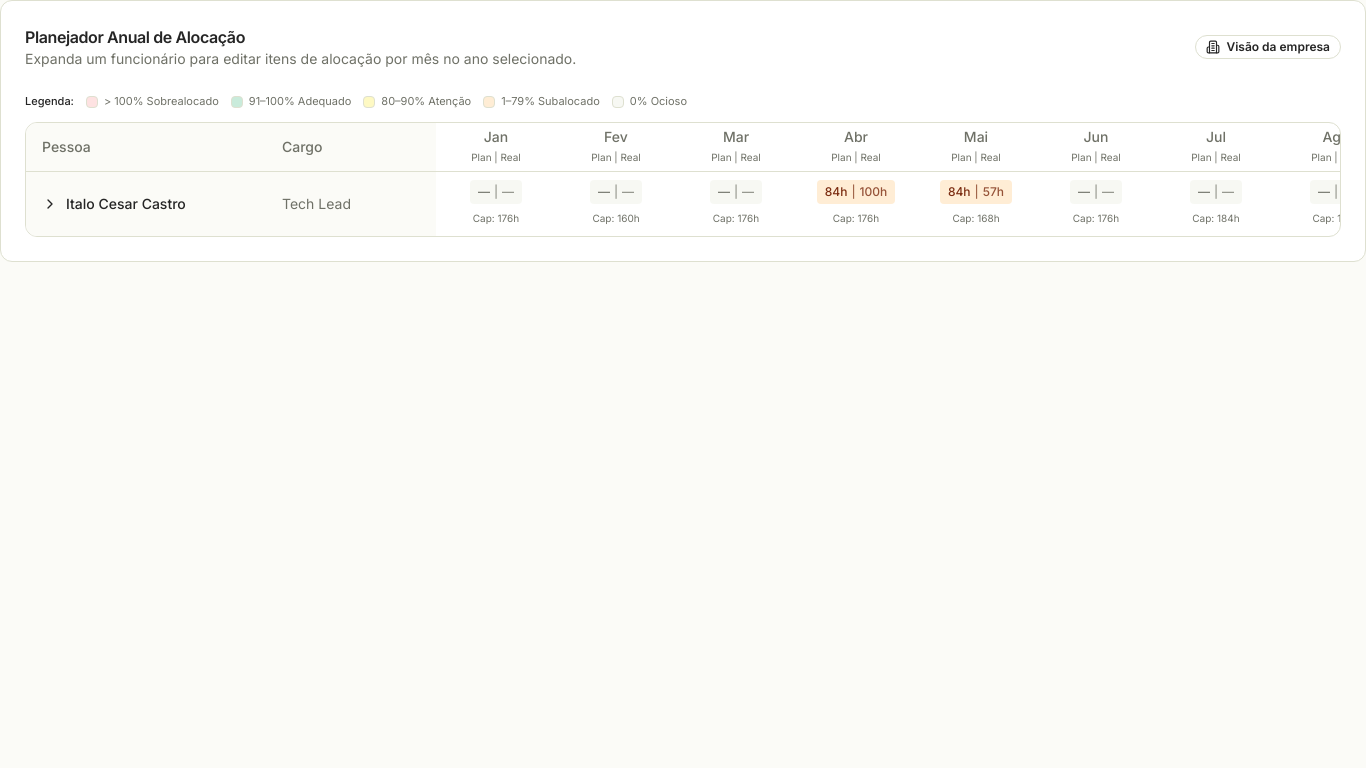
Test case: AllocationOverview › aplica filtro de projeto no resumo e no detalhe
Expected: the text "84h" next to "100h" is shown, x1=825 y1=184 x2=847 y2=199
Expected: the text "57h" is shown, x1=983 y1=184 x2=1004 y2=200
Click the text "Italo Cesar Castro" at [126, 204], box x1=66 y1=194 x2=186 y2=214
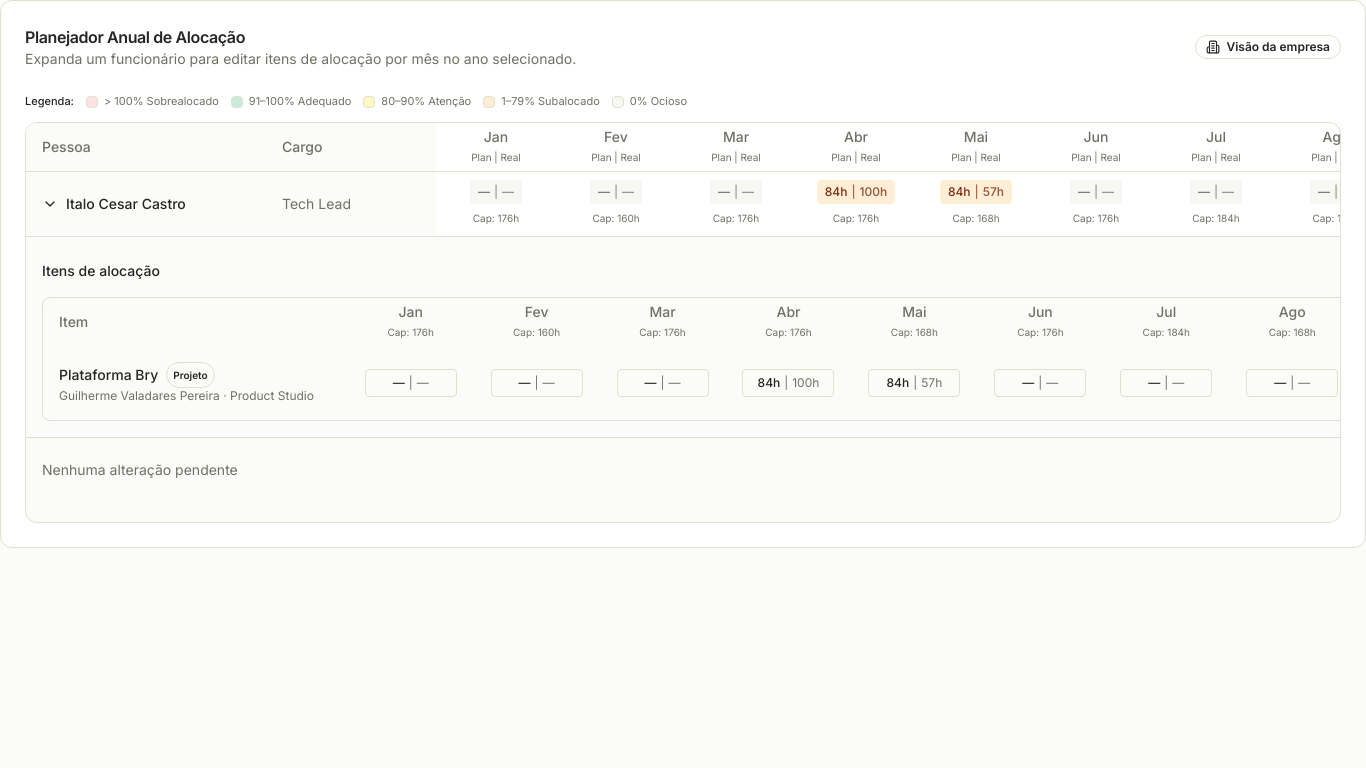
Expected: the text "Plataforma Bry" is shown, x1=59 y1=365 x2=158 y2=385
